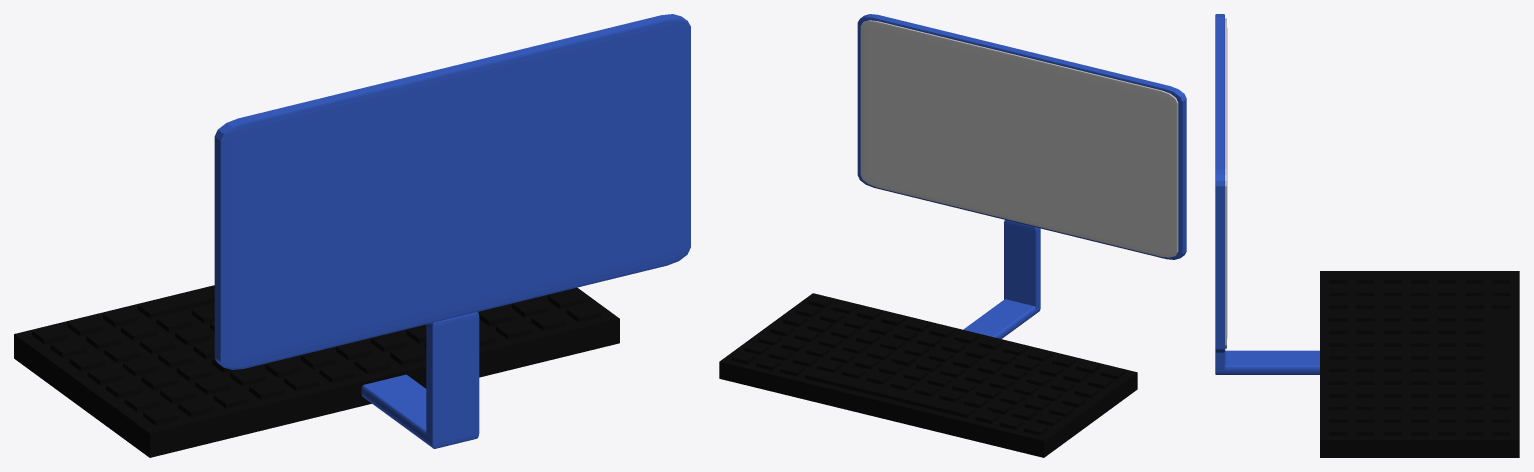
File: computer.obj
3 renders of one model, left to right at view 1: azimuth 30°, elevation 25°; view 2: azimuth 150°, elevation 25°; view 3: azimuth 270°, elevation 25°, orthographic. The views are drawn at different scales.
Parts seen in each view (by area): view 1: Backboard, Keyboard; view 2: Screen, Keyboard, Backboard; view 3: Keyboard, Backboard, Screen.
Part boxes in pixels (bbox=[...]): Backboard: bbox=[214, 14, 690, 448]; Keyboard: bbox=[14, 285, 619, 457]; Screen: bbox=[860, 20, 1178, 257]; Keyboard: bbox=[719, 293, 1137, 457]; Backboard: bbox=[857, 14, 1186, 338]; Keyboard: bbox=[1320, 271, 1519, 457]; Backboard: bbox=[1215, 14, 1319, 374]; Screen: bbox=[1225, 18, 1227, 348].
Size of the model in its own units: 2 by 1.55 by 1.53.
